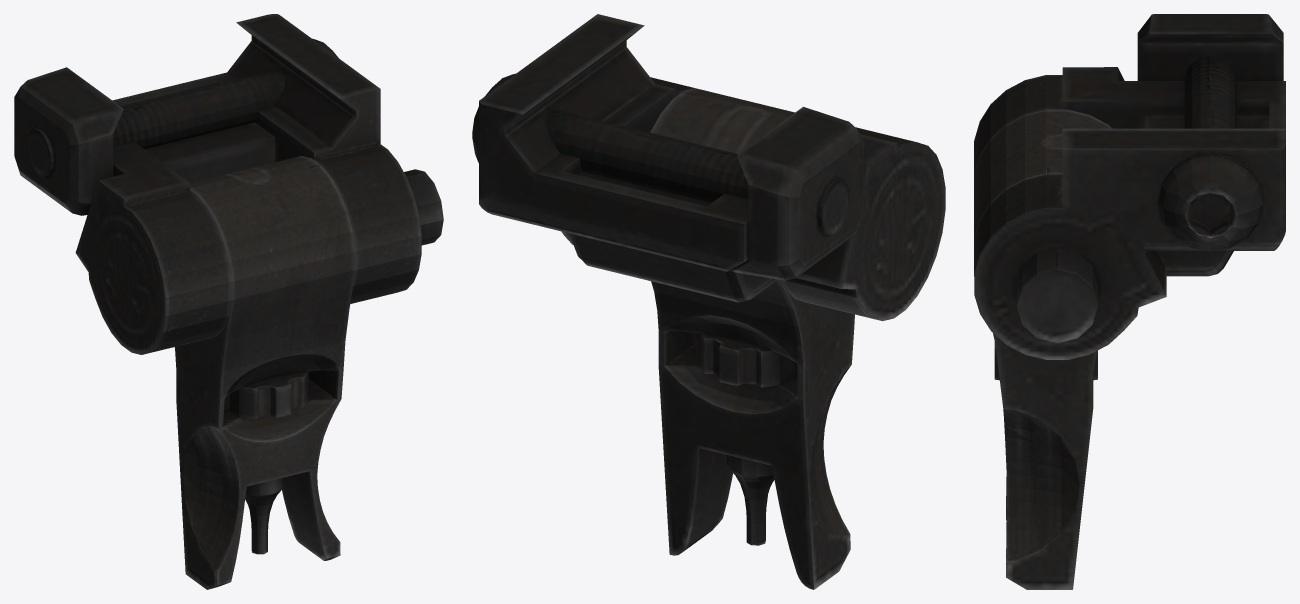
3 renders of one model, left to right at view 1: azimuth 30°, elevation 25°; view 2: azimuth 150°, elevation 25°; view 3: azimuth 270°, elevation 25°, orthographic. The views are drawn at different scales.
Parts seen in each view (by area): view 1: TW_5fc0fa362770a0045c59c677_PZ_Import; view 2: TW_5fc0fa362770a0045c59c677_PZ_Import; view 3: TW_5fc0fa362770a0045c59c677_PZ_Import.
Boxes of the visible parts, x1,y1,x2,y2 form: TW_5fc0fa362770a0045c59c677_PZ_Import: [14, 14, 443, 589]; TW_5fc0fa362770a0045c59c677_PZ_Import: [472, 14, 945, 589]; TW_5fc0fa362770a0045c59c677_PZ_Import: [974, 14, 1285, 589].
Size of the model in its own units: 0.0186 by 0.0149 by 0.0252.
1 material, 1 textured.
